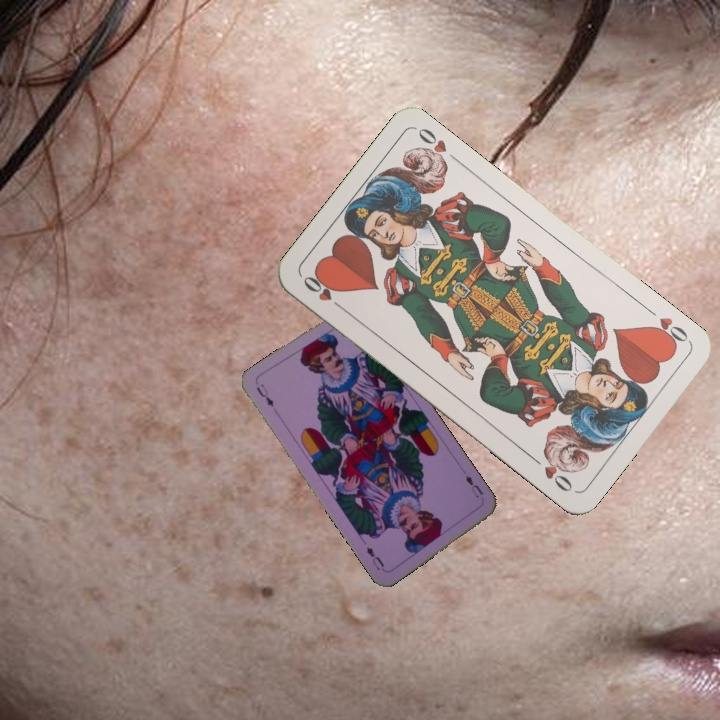EU: (461, 471, 486, 501), (252, 380, 276, 410)
HO: (642, 303, 692, 351), (298, 271, 349, 314)
